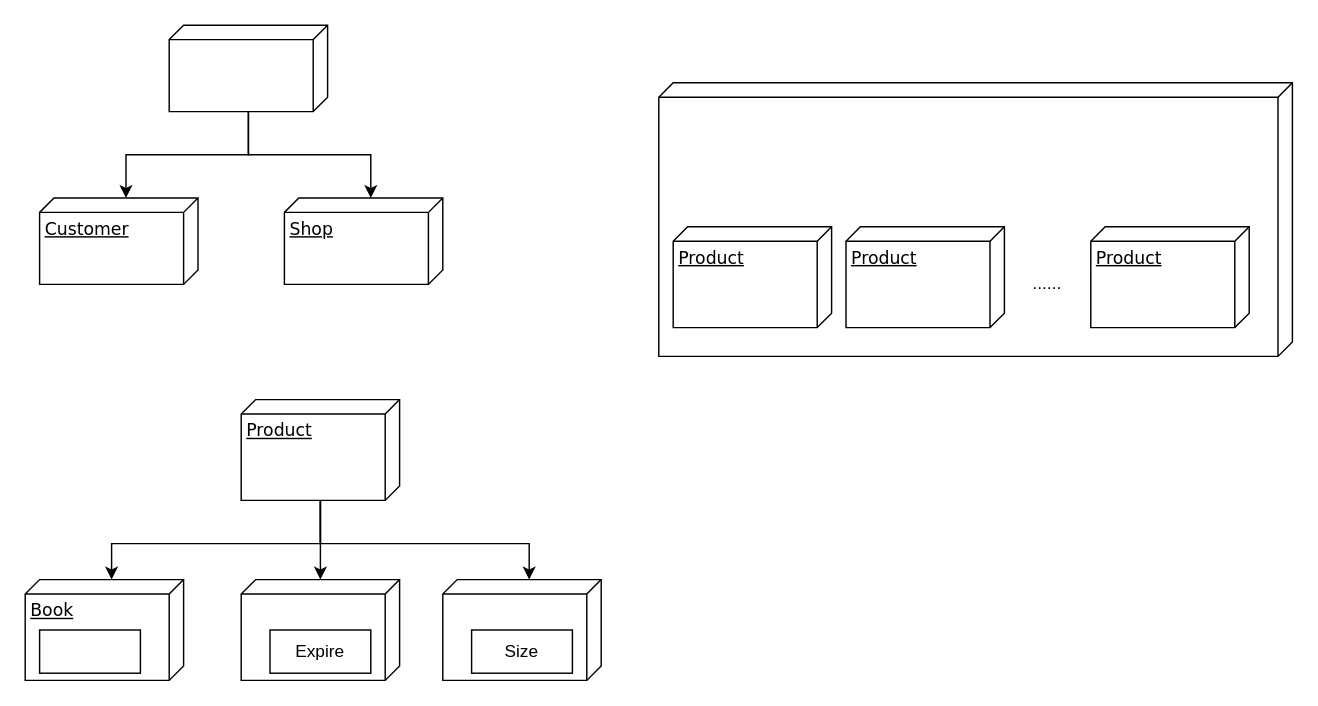
The diagram is 1318 pixels wide and 706 high, and some of its shapes have lost their labels. Here are the shapes that lost their labels. From the top down, the box of each, then its label:
(168, 24, 328, 112): User
(657, 81, 1292, 356): Chart
(240, 578, 400, 680): Food
(441, 578, 601, 680): Cloth
(38, 629, 140, 673): Edition
